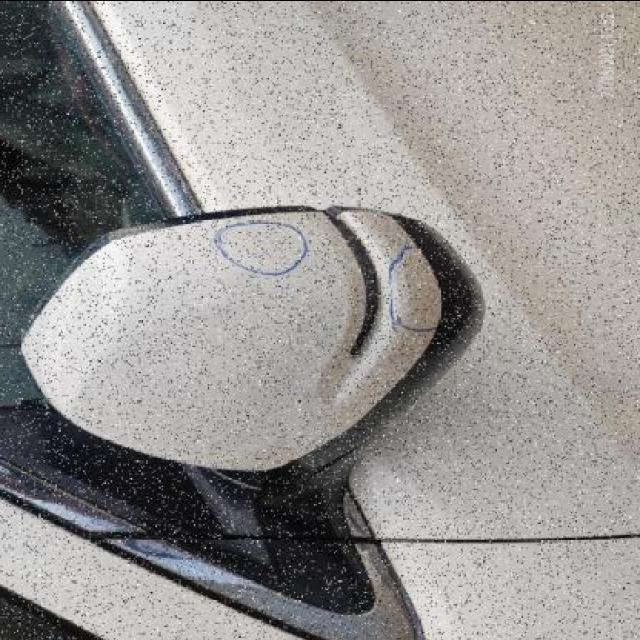Sidemirror-Damage: (28, 190, 504, 474)
